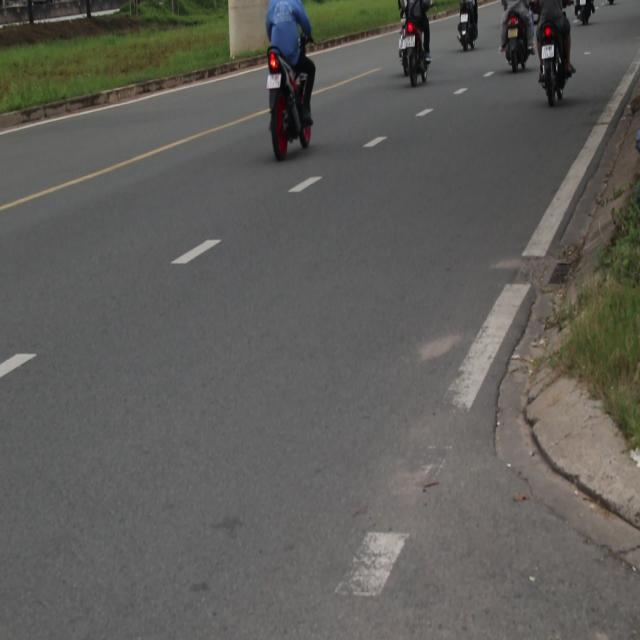motorbike: (264, 57, 328, 159), (539, 31, 576, 107), (402, 26, 438, 92), (500, 12, 531, 74), (454, 5, 486, 60), (392, 18, 422, 72), (569, 0, 595, 33)
